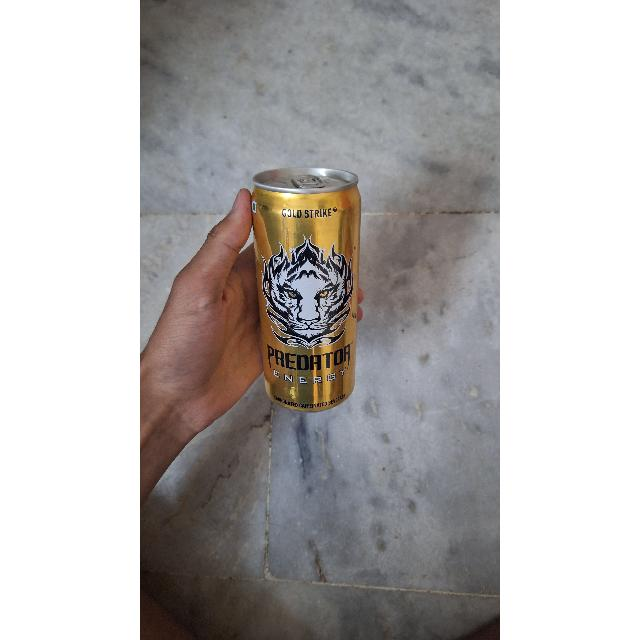Predator: (242, 175, 362, 411)
